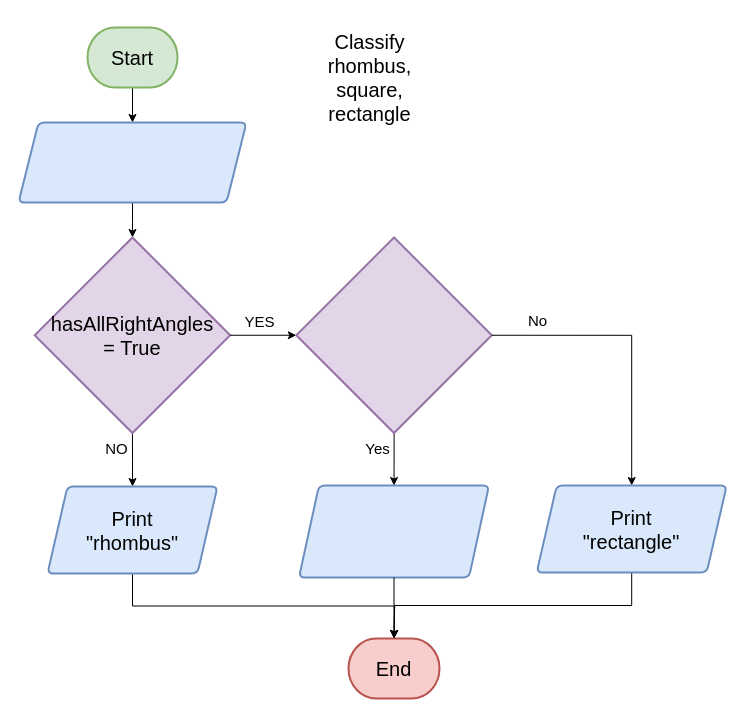
The diagram is 745 pixels wide and 716 high, and some of its shapes have lost their labels. The shapes that lost their labels are listed below. From the top down, each one's centre as x and y in pixels, then its label:
the point at 132,162: Input hasAllRightAngles, hasAllSidesEqual
the point at 393,335: hasAllSidesEqual = True
the point at 394,531: Print "square"
